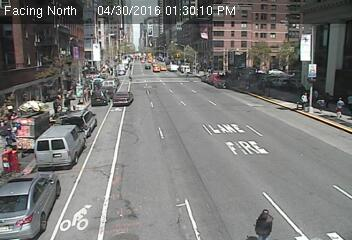neg: (232, 27, 277, 87), (13, 93, 57, 151), (126, 138, 167, 193), (201, 113, 236, 159), (61, 39, 87, 75), (76, 194, 101, 227), (87, 88, 108, 117), (117, 88, 135, 112), (171, 61, 187, 83), (141, 60, 155, 78), (217, 31, 230, 49)
pos: (255, 205, 275, 231), (332, 97, 348, 118), (296, 90, 309, 107), (320, 97, 327, 106)
